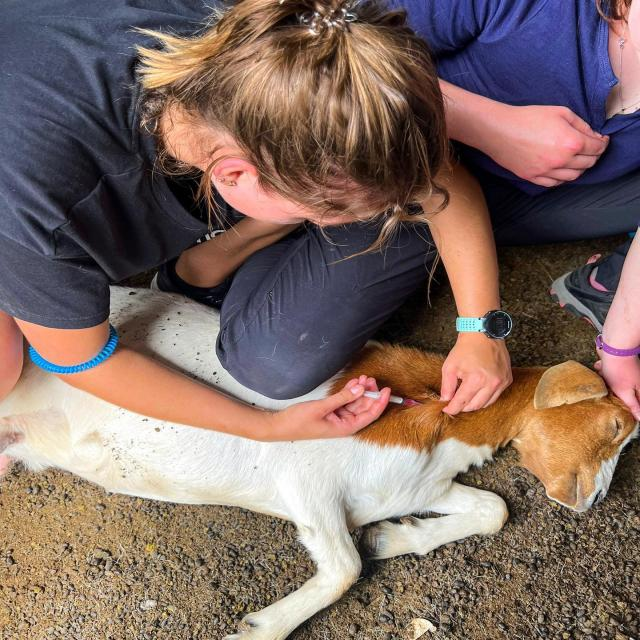goat: (1, 270, 640, 639)
